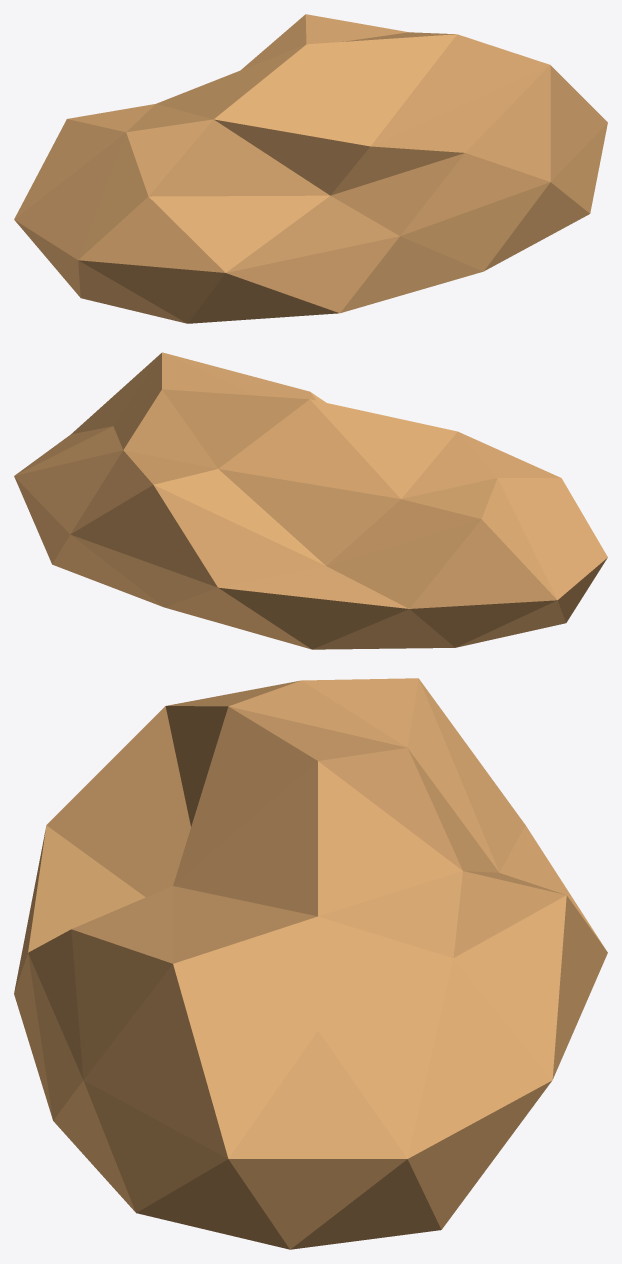
File: rock2.fbx
The picture shows the model from 3 angles, top to bottom: view 1: azimuth 30°, elevation 25°; view 2: azimuth 150°, elevation 25°; view 3: azimuth 270°, elevation 25°; orthographic projection. The views are drawn at different scales.
Parts seen in each view (by area): view 1: Icosphere.003; view 2: Icosphere.003; view 3: Icosphere.003.
Part boxes in pixels (<box>): Icosphere.003: <box>14,14,607,323</box>; Icosphere.003: <box>14,352,607,649</box>; Icosphere.003: <box>14,678,607,1249</box>.
Size of the model in its own units: 314 by 107 by 191.
